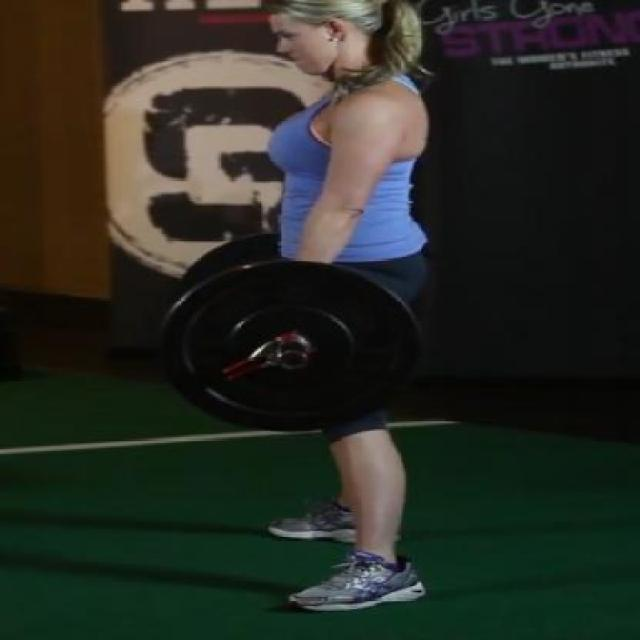barbell: (155, 254, 425, 439)
